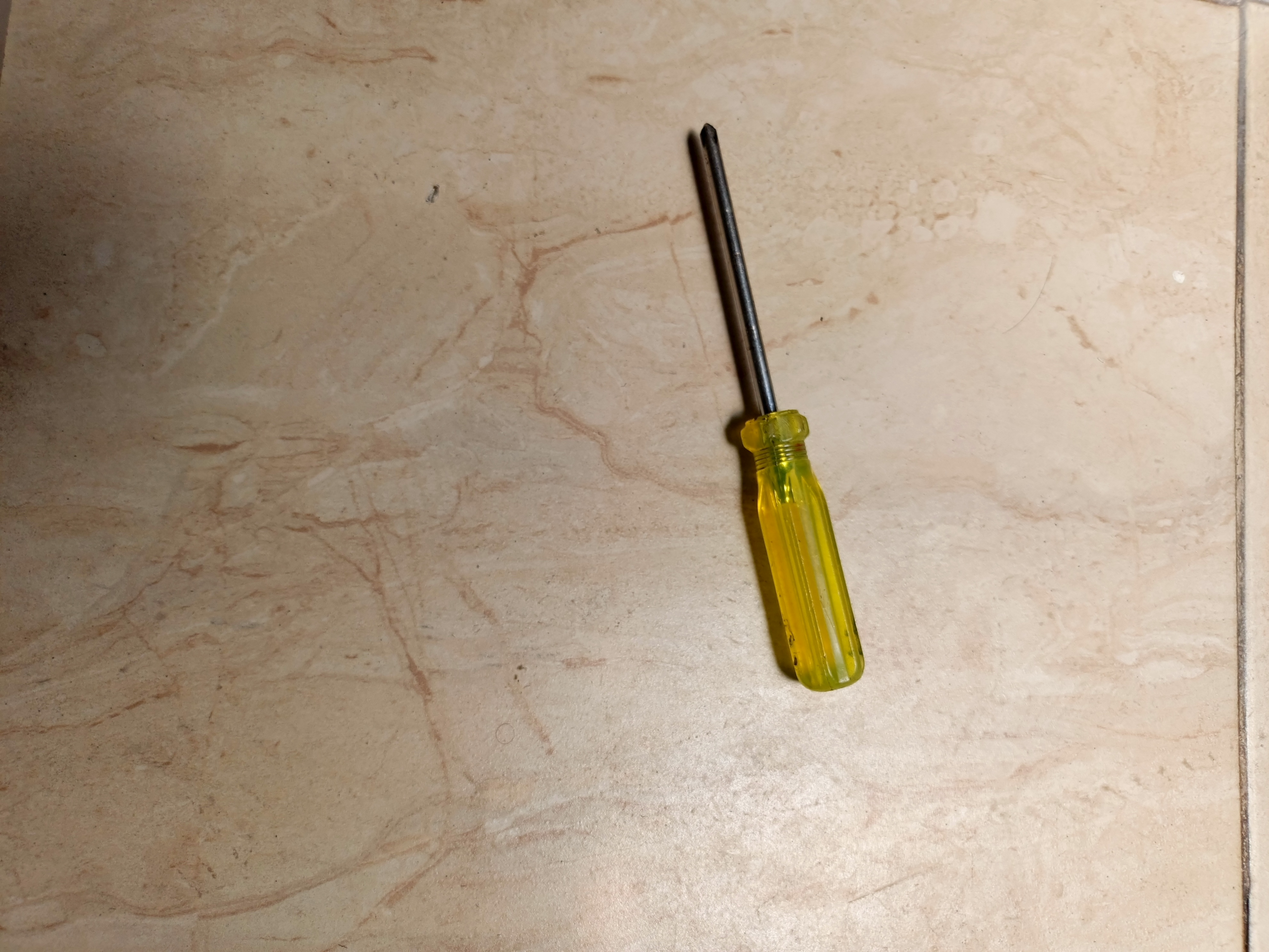Destornillador: (699, 124, 864, 690)
